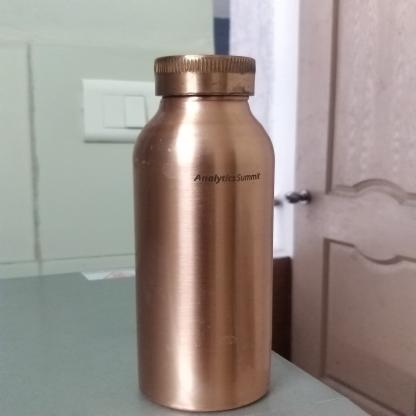bottle: (133, 53, 282, 414)
